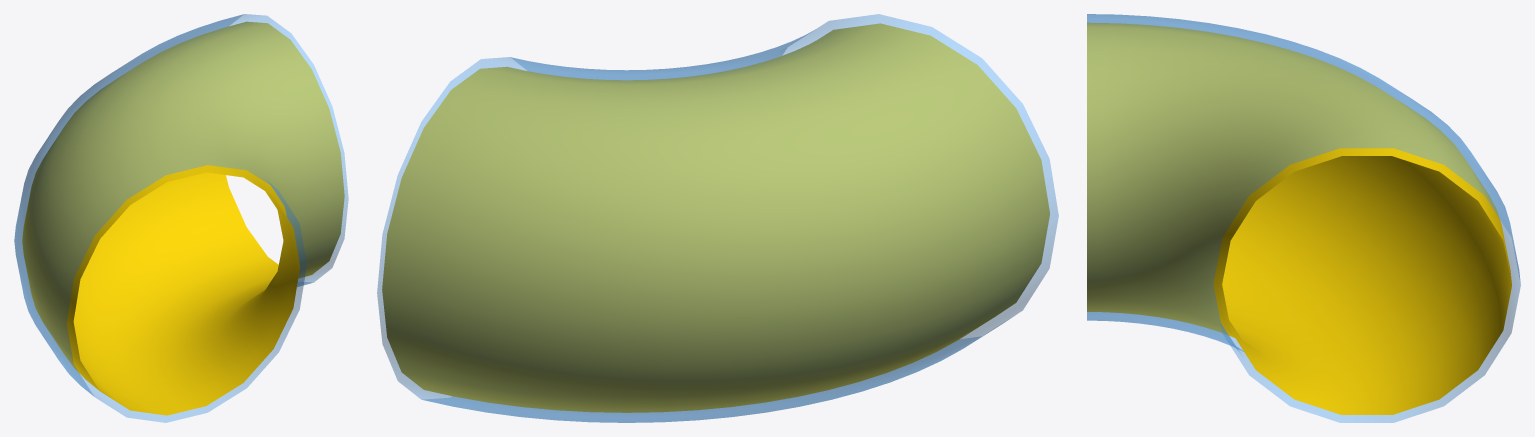
File: 直角管.glb
3 views of the same model, side by side, from view 1: azimuth 30°, elevation 25°; view 2: azimuth 150°, elevation 25°; view 3: azimuth 270°, elevation 25° (orthographic). The views are drawn at different scales.
Parts seen in each view (by area): view 1: 贴图, Box001; view 2: Box001, 贴图; view 3: 贴图, Box001.
Boxes of the visible parts, x1=… form: 贴图: x1=22, y1=21, x2=344, y2=415; Box001: x1=14, y1=14, x2=348, y2=422; Box001: x1=377, y1=14, x2=1058, y2=422; 贴图: x1=382, y1=23, x2=1049, y2=412; 贴图: x1=1087, y1=22, x2=1511, y2=414; Box001: x1=1087, y1=14, x2=1520, y2=422.
Size of the model in its own units: 4.93 by 3.45 by 4.93.
